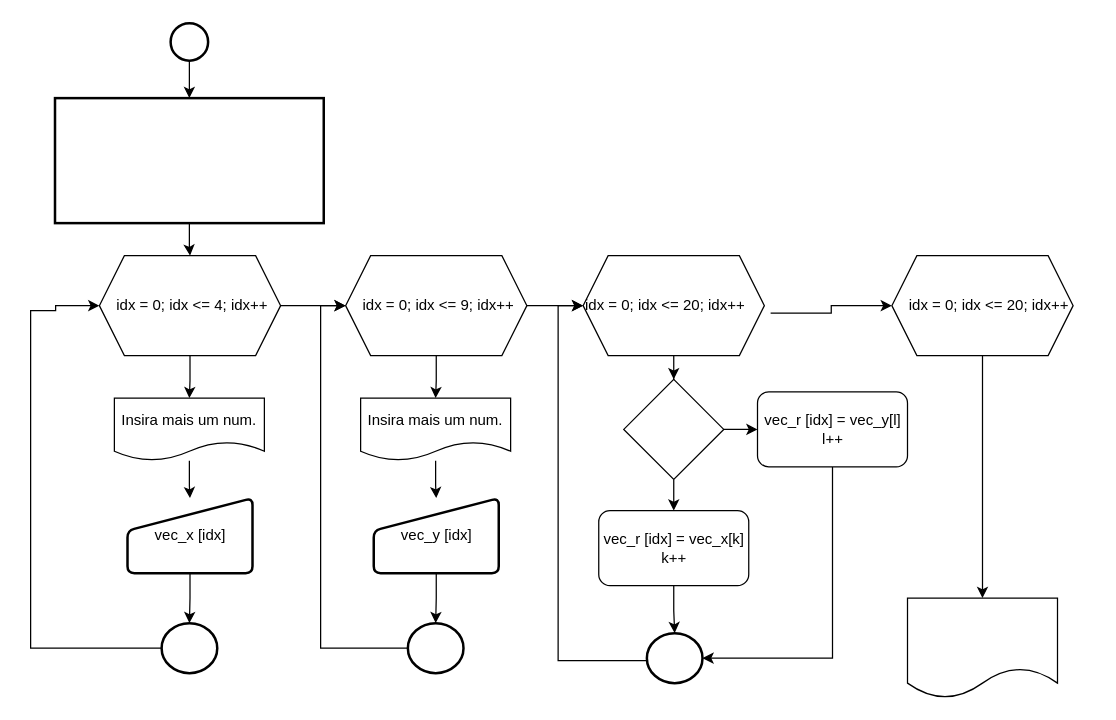
This 1116x720 diagram has some shape labels left out. Each missing label, with the box of its shape:
idx%2==0: (622, 378, 724, 479)
inteiro i, j, k, l, num inteiro vec_x [10] inteiro vec_y [10] inteiro vec_r [20]: (53, 96, 324, 224)
vec_r [idx]: (906, 597, 1058, 698)
